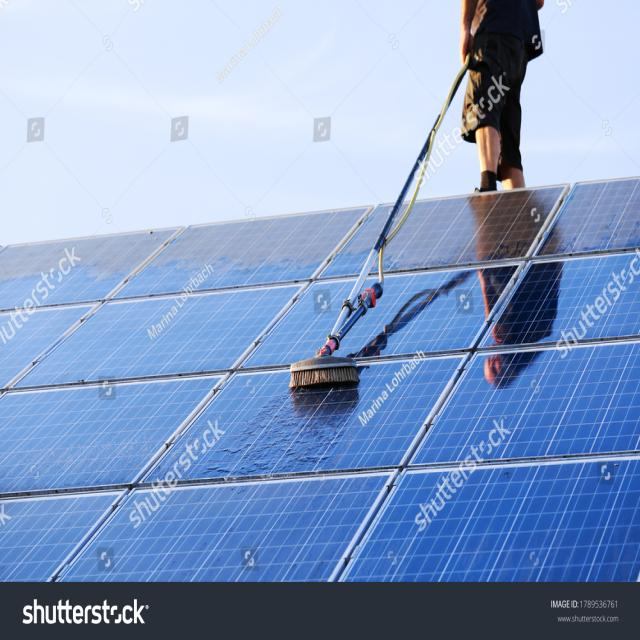clean-solar-panel: (1, 177, 640, 639)
